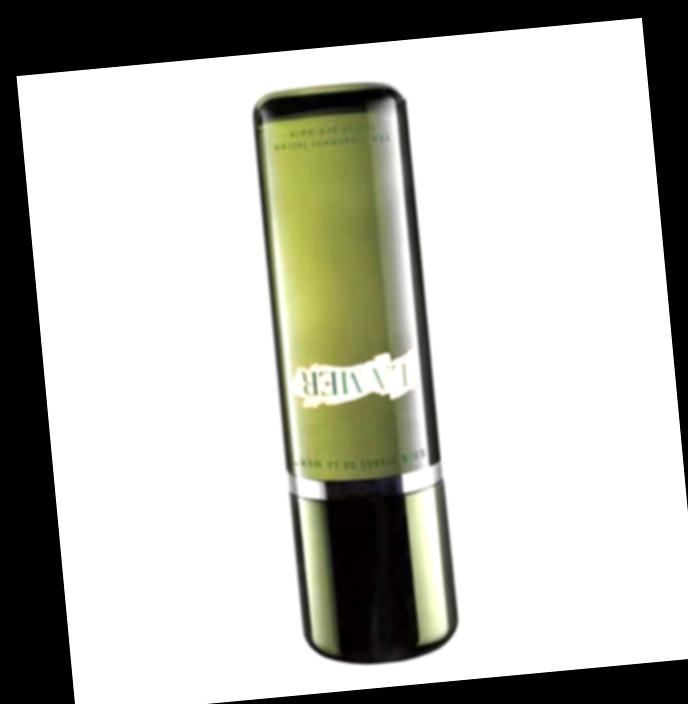cosmetic: (243, 81, 458, 663)
